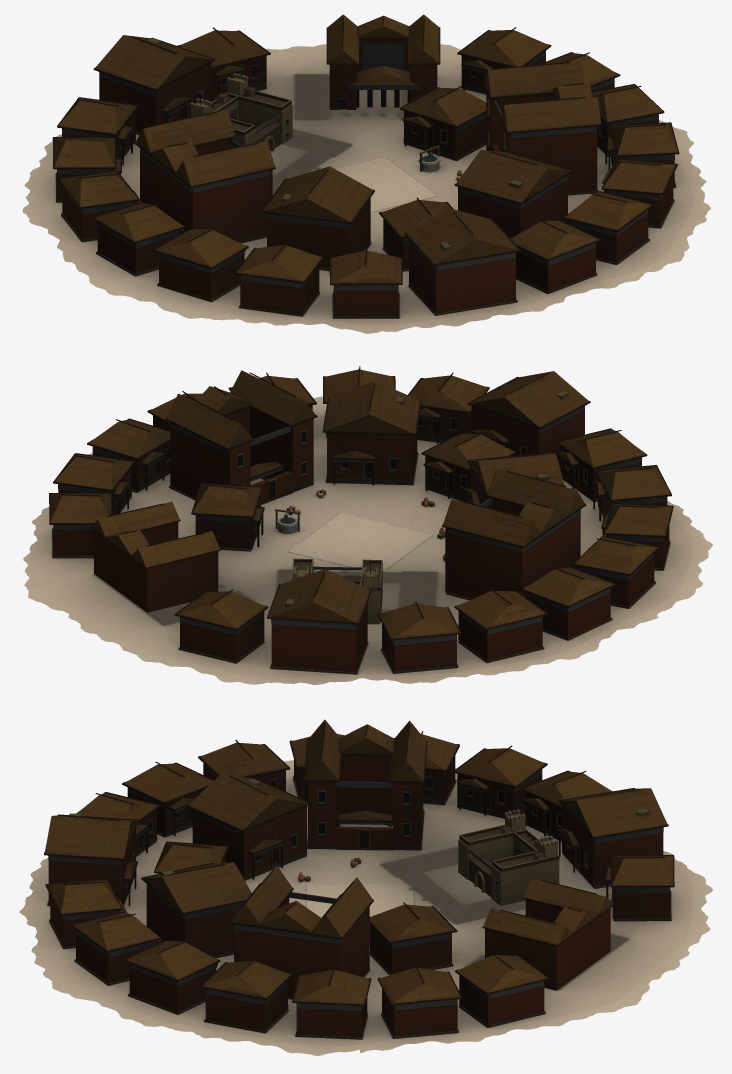
Rendered from gunpowder-town-big-a-westafrica.glb.
3 renders of one model, top to bottom at view 1: azimuth 30°, elevation 25°; view 2: azimuth 150°, elevation 25°; view 3: azimuth 270°, elevation 25°, orthographic.
Visible parts, largest first — view 1: LOD0; view 2: LOD0; view 3: LOD0.
Part boxes in pixels (x1,y1,x2,y2): LOD0: [22, 14, 710, 333]; LOD0: [23, 366, 712, 684]; LOD0: [19, 719, 712, 1055].
Size of what is drawn, in the model's own units: 8.03 by 1.16 by 7.89.
3 materials, 3 textured.
